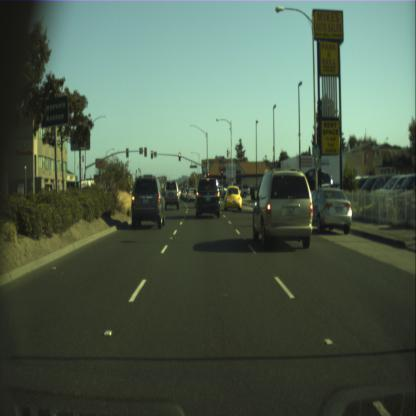Red: (178, 152, 180, 160), (221, 169, 223, 176), (207, 172, 209, 178)
RedLeft: (150, 150, 153, 159)
